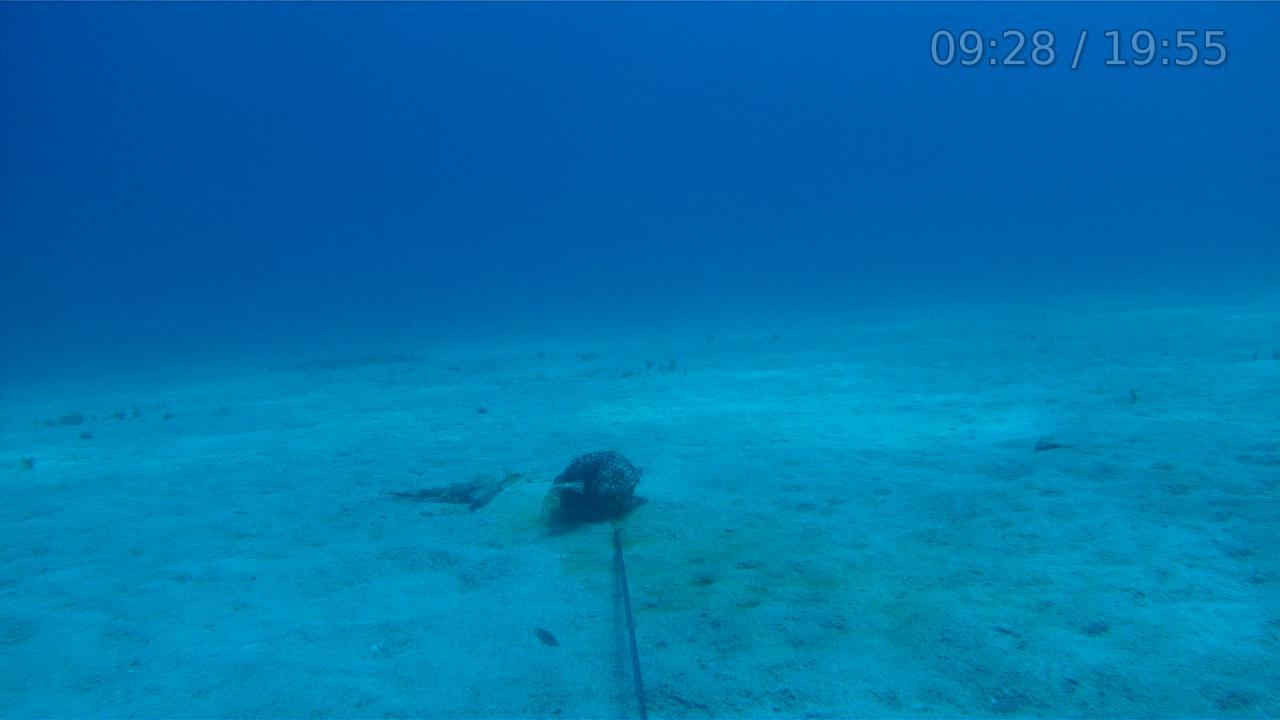bothus: (1030, 429, 1080, 452)
